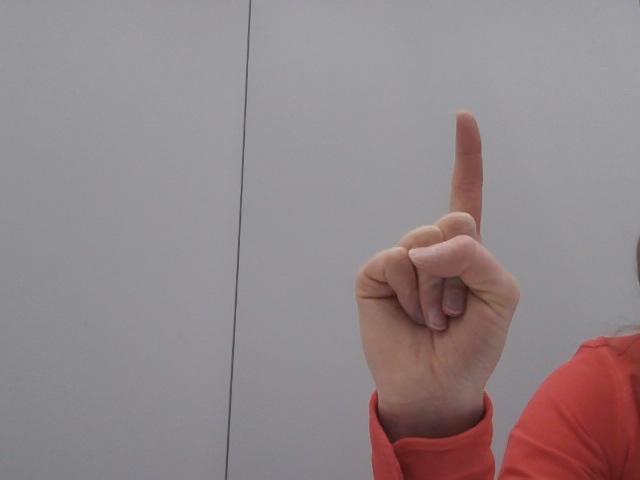up: (338, 98, 536, 470)
